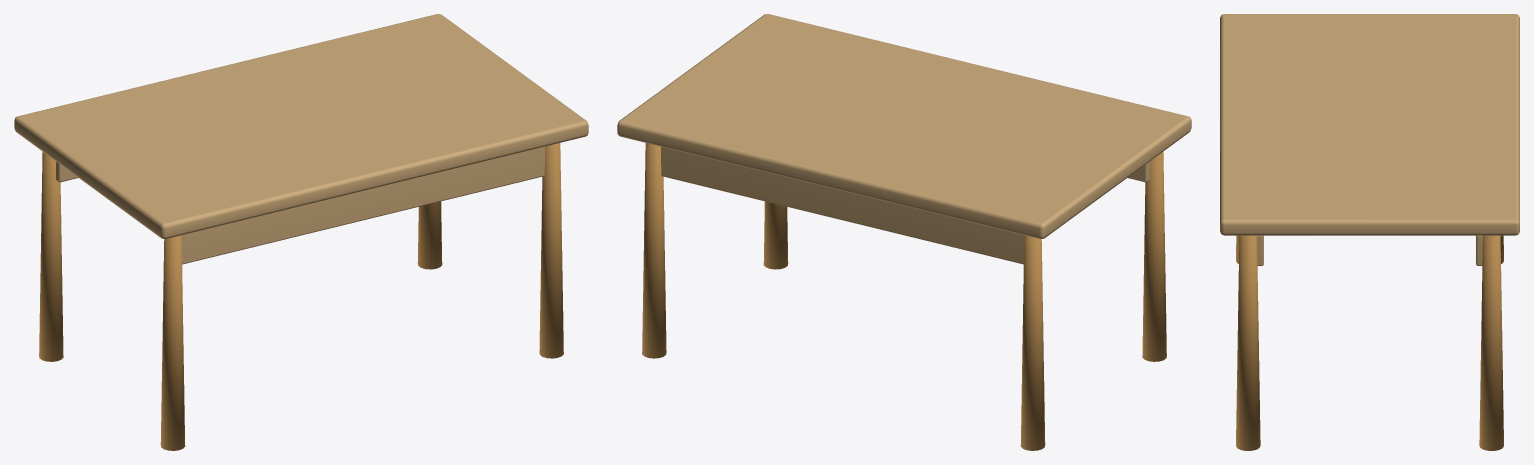
File: table.glb
3 views of the same model, side by side, from view 1: azimuth 30°, elevation 25°; view 2: azimuth 150°, elevation 25°; view 3: azimuth 270°, elevation 25° (orthographic).
Visible parts, largest first — view 1: top; view 2: top; view 3: top.
Part boxes in pixels (x1,y1,x2,y2): top: [14, 14, 588, 450]; top: [617, 14, 1191, 450]; top: [1220, 14, 1519, 450].
Size of the model in its own units: 1.4 by 0.74 by 0.85.
